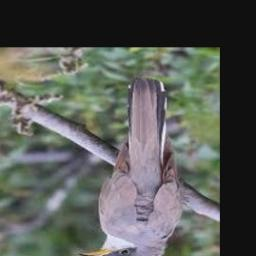Cuckoo: (79, 78, 184, 256)
